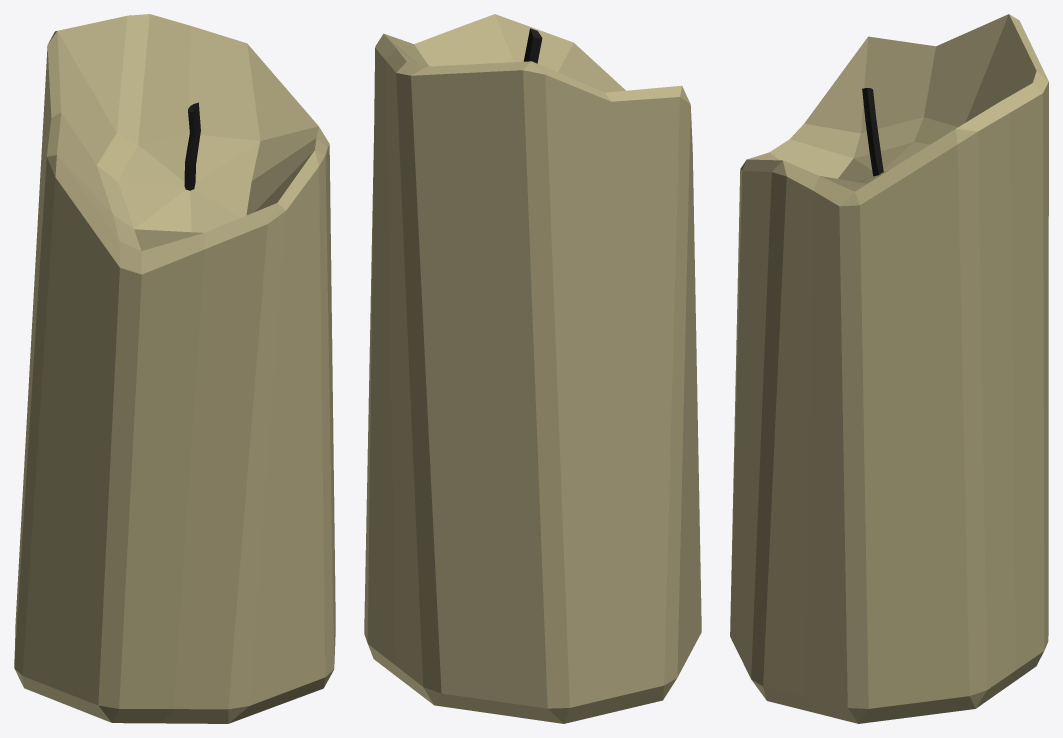
File: LargeCandle.fbx
3 renders of one model, left to right at view 1: azimuth 30°, elevation 25°; view 2: azimuth 150°, elevation 25°; view 3: azimuth 270°, elevation 25°, orthographic. The views are drawn at different scales.
Visible parts, largest first — view 1: Stump.001; view 2: Stump.001; view 3: Stump.001.
Part boxes in pixels (x1=…): Stump.001: x1=14, y1=14, x2=335, y2=723; Stump.001: x1=364, y1=14, x2=701, y2=723; Stump.001: x1=730, y1=14, x2=1048, y2=723.
Size of the model in its own units: 34.42 by 69.75 by 32.81.
